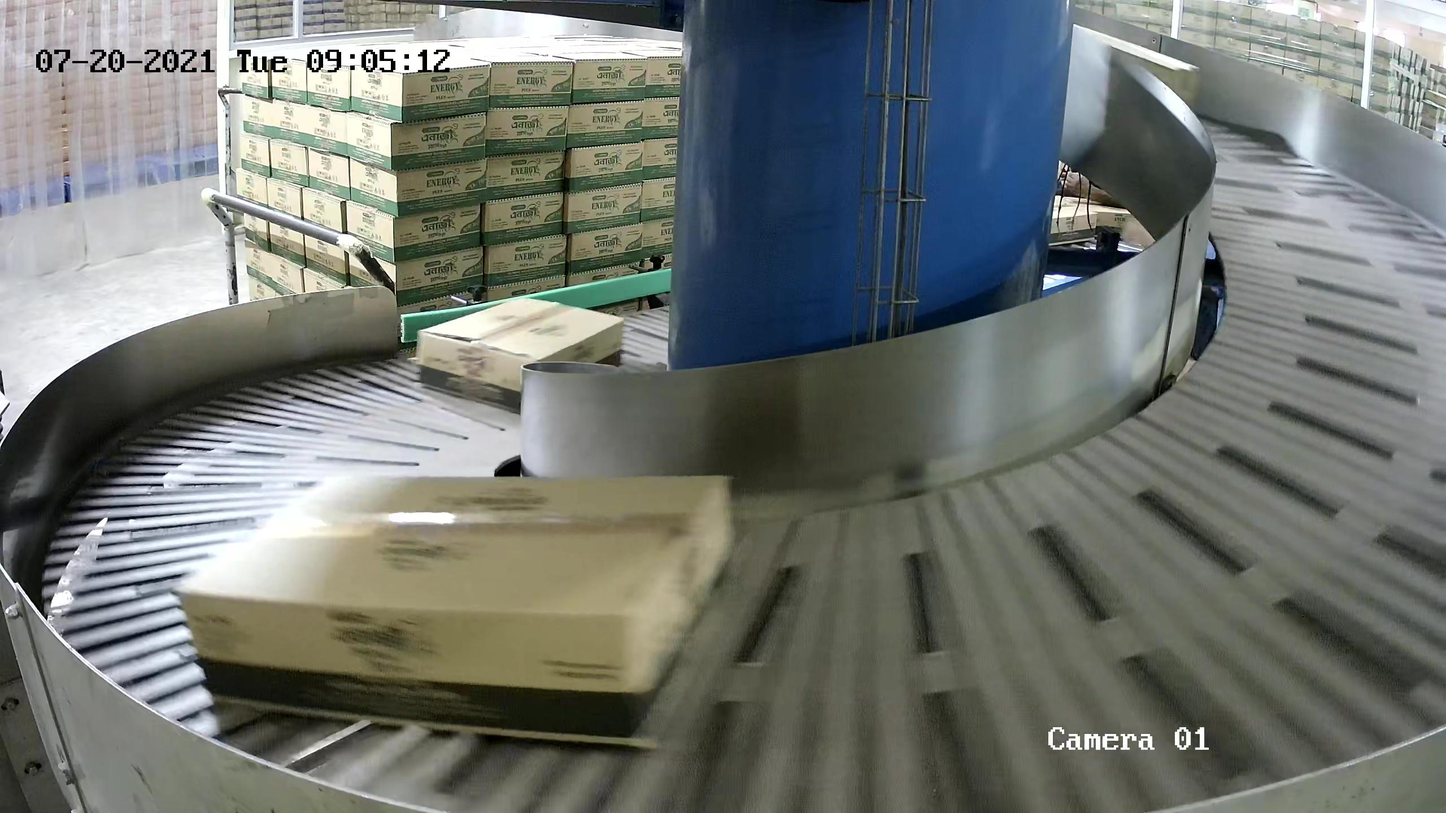Box: (172, 472, 746, 756), (414, 295, 629, 414)
